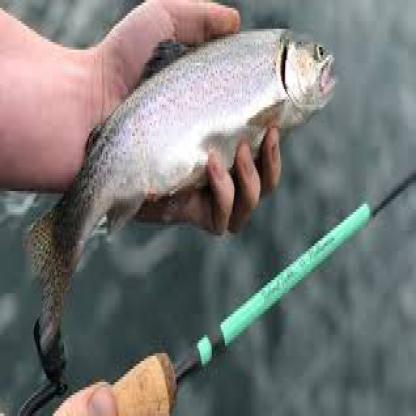fish: (18, 21, 336, 320)
